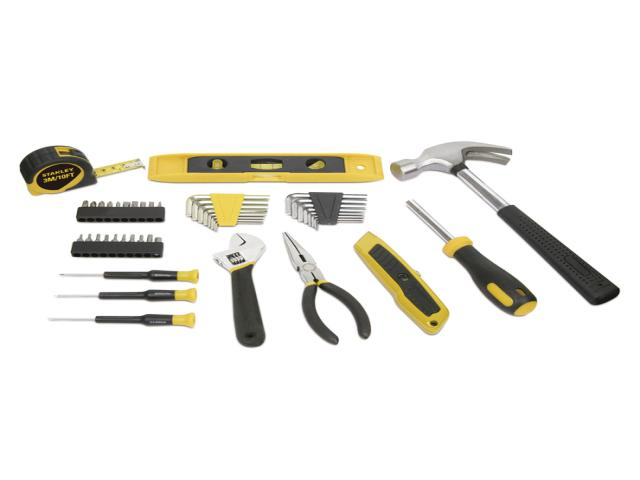Adjustable spanner: (212, 233, 265, 347)
Hammer: (391, 142, 619, 305)
Needle-nose pliers: (283, 232, 371, 345)
Screwdriver: (408, 201, 536, 315), (49, 313, 196, 329), (54, 287, 198, 303), (60, 269, 200, 285)
Tape measure: (20, 145, 145, 195)
Utility knife: (354, 232, 449, 334)
